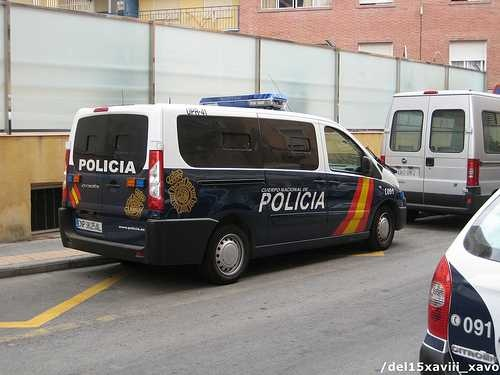Police Van: (37, 77, 421, 281)
